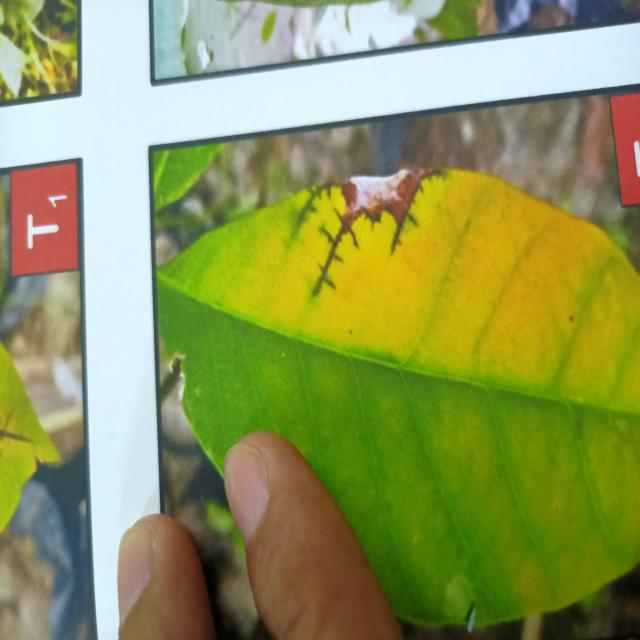Corynespora: (389, 170, 443, 257), (311, 207, 360, 299), (296, 180, 344, 224)
Leaf-Blight: (350, 168, 408, 209)
